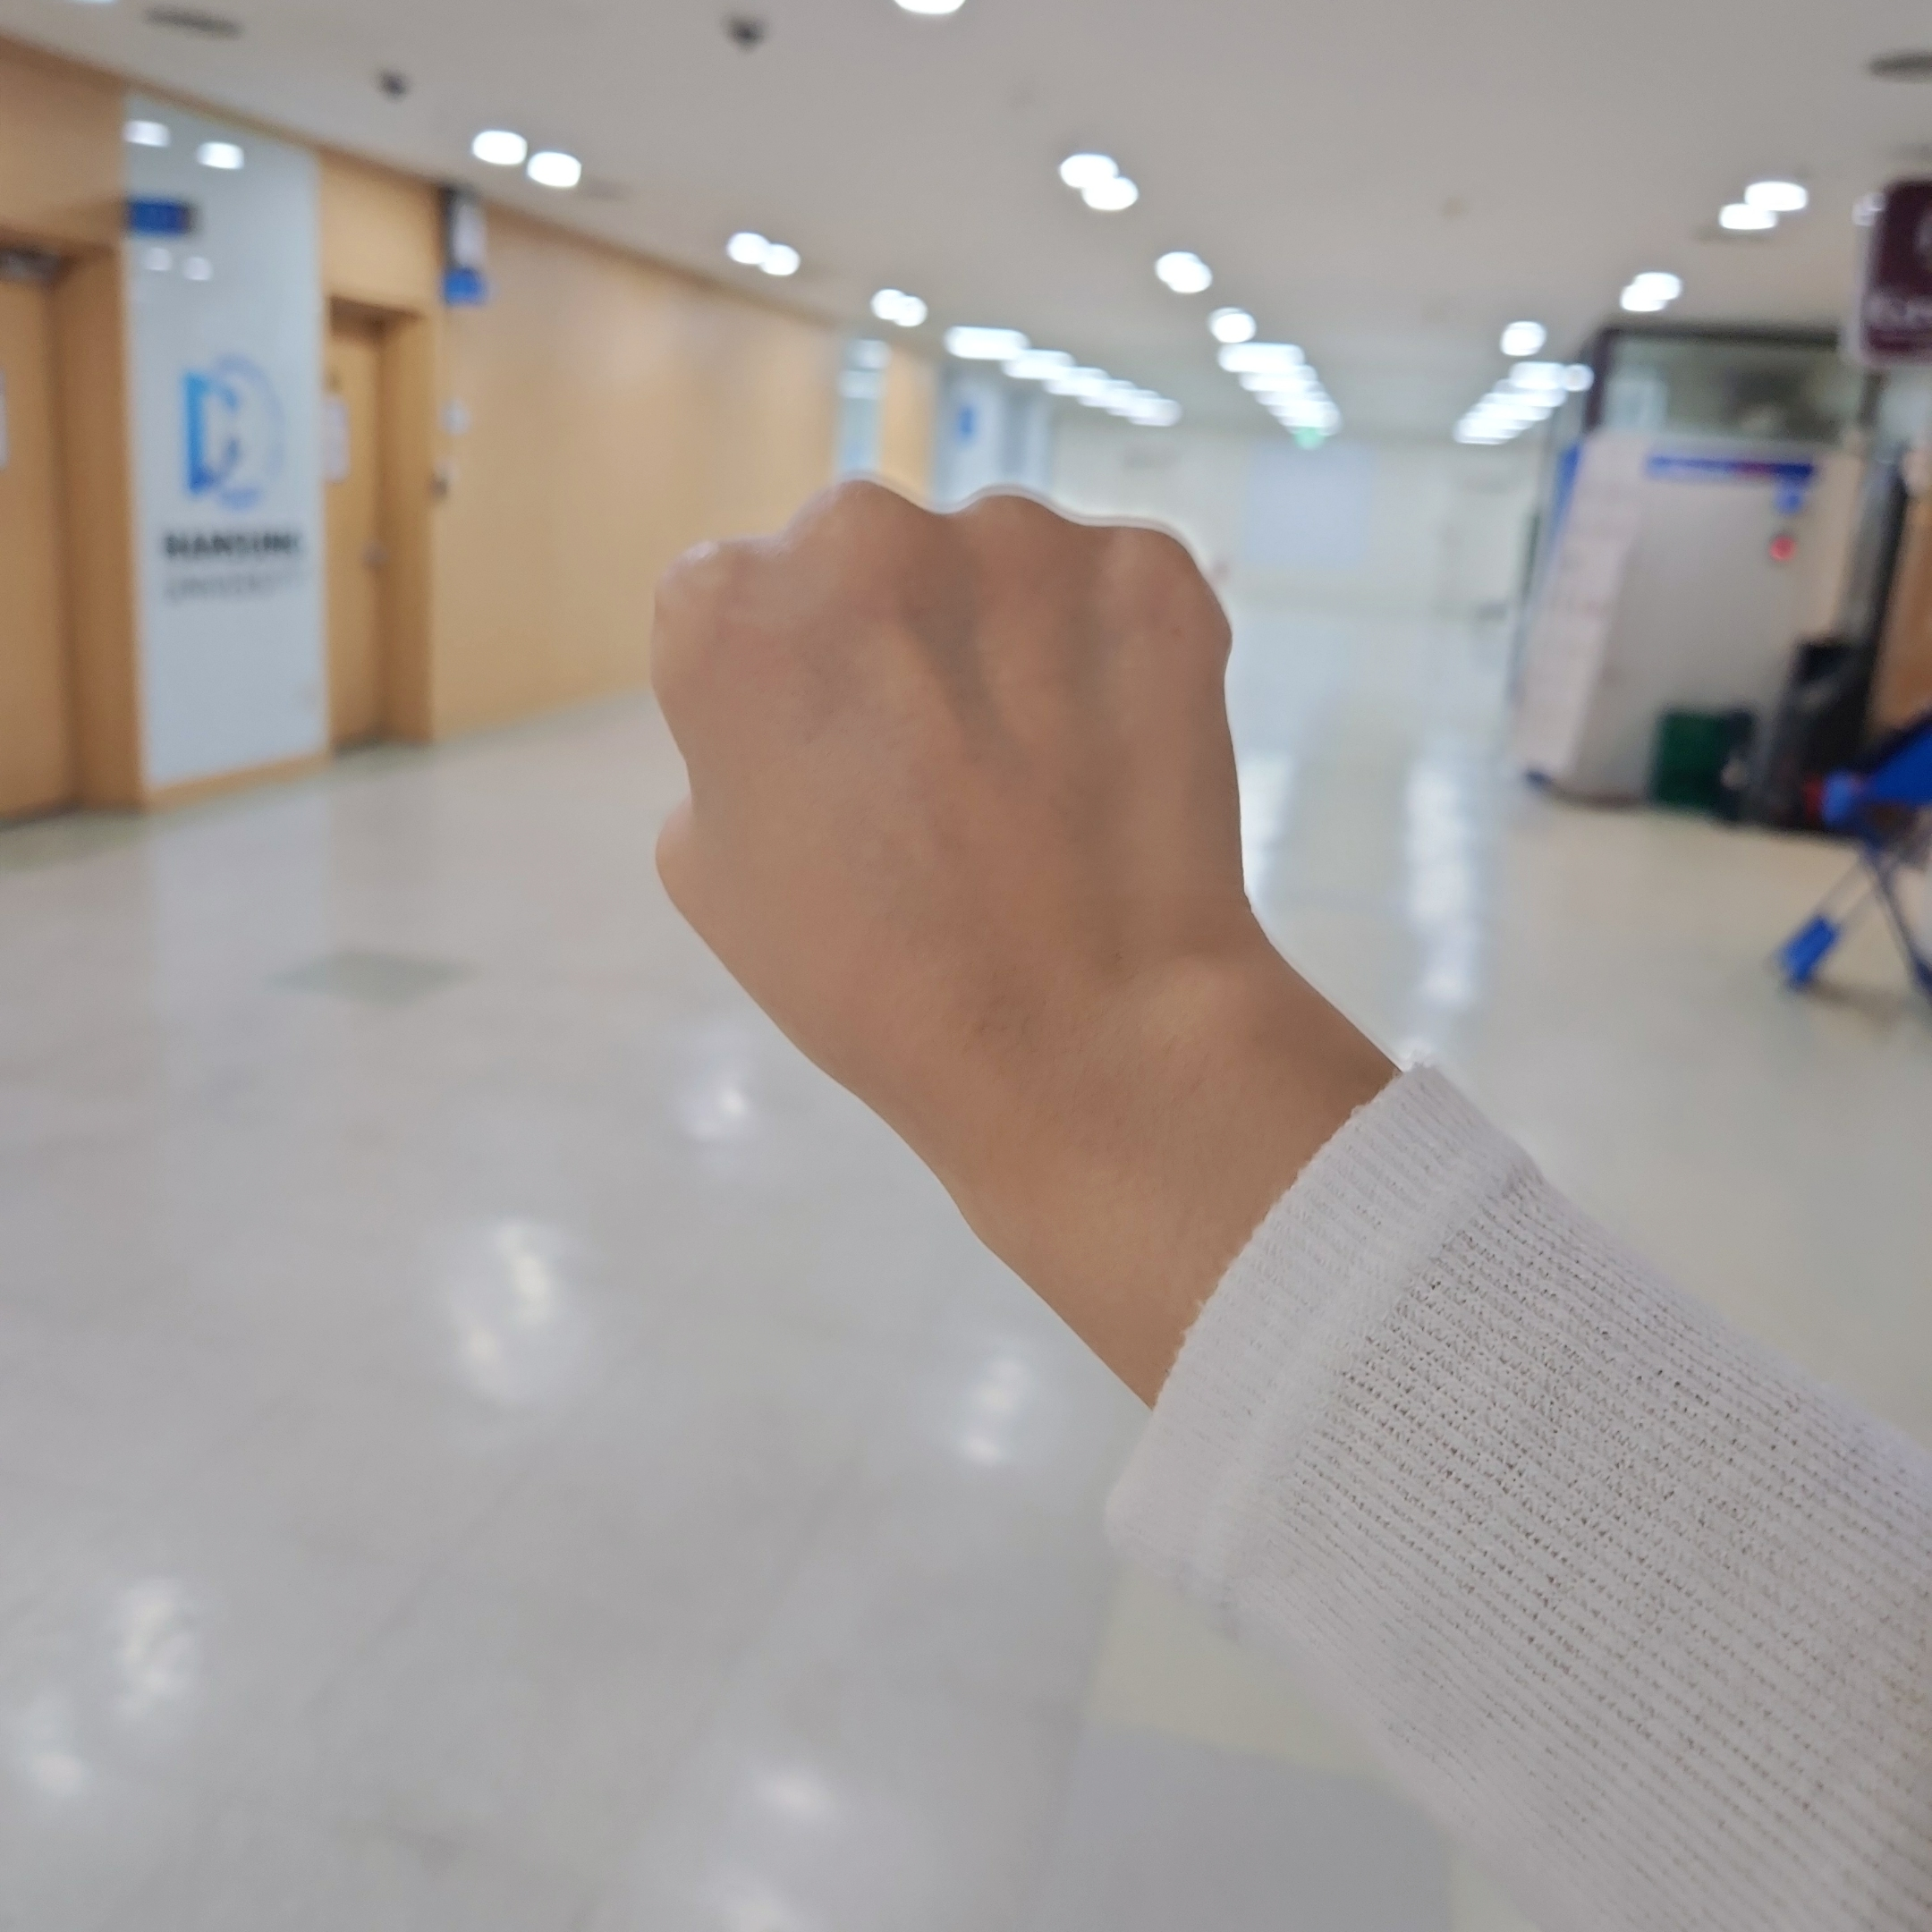smile: (637, 467, 1269, 1113)
